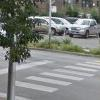Crosswalk: (27, 60, 100, 95)
